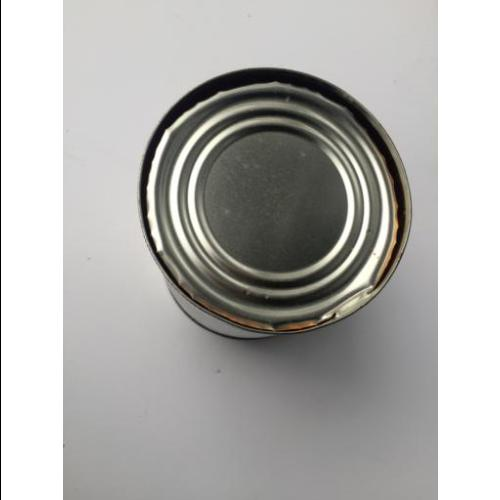metal: (139, 70, 416, 341)
